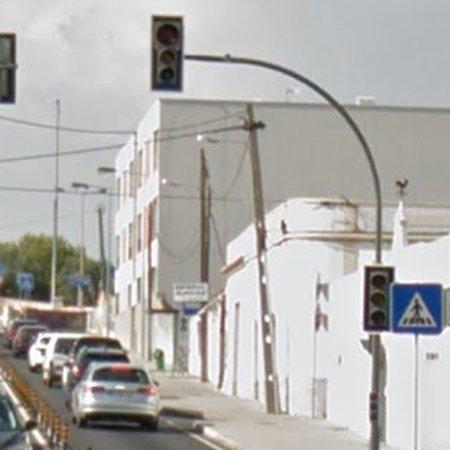traffic lights: (152, 16, 182, 90)
